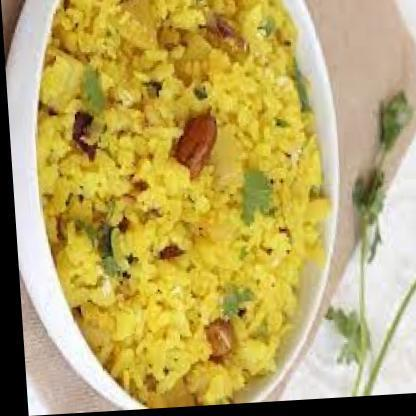poha: (26, 0, 338, 415)
